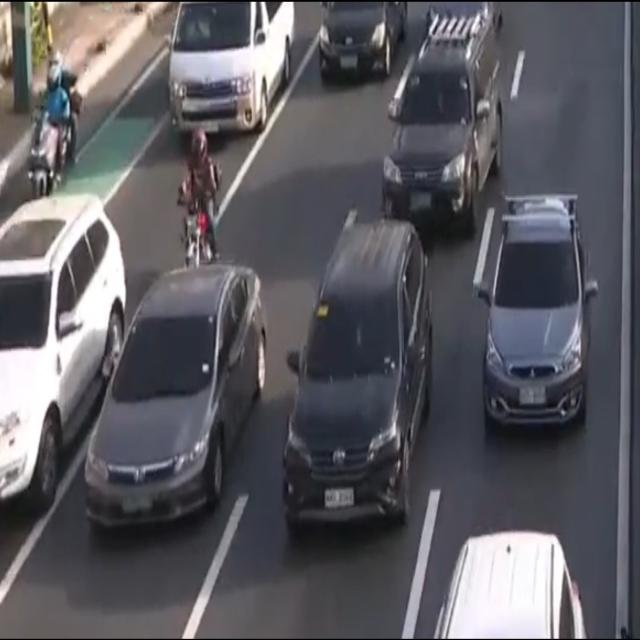Motorcycle: (25, 49, 84, 215), (175, 130, 221, 274)
SUV: (282, 222, 432, 546), (1, 194, 127, 526), (382, 7, 502, 239)
Sedan: (83, 258, 270, 531), (475, 192, 598, 430), (318, 0, 408, 82)
Van: (168, 0, 296, 140)
